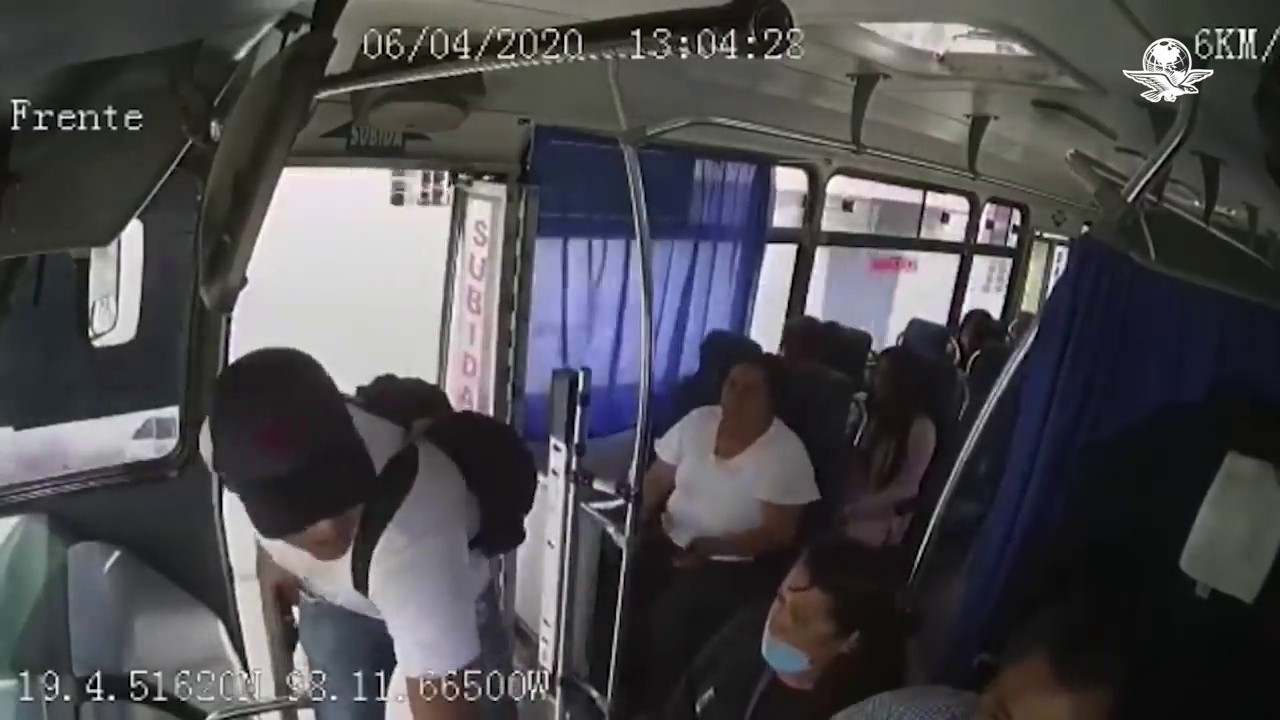pistol: (267, 572, 306, 669)
